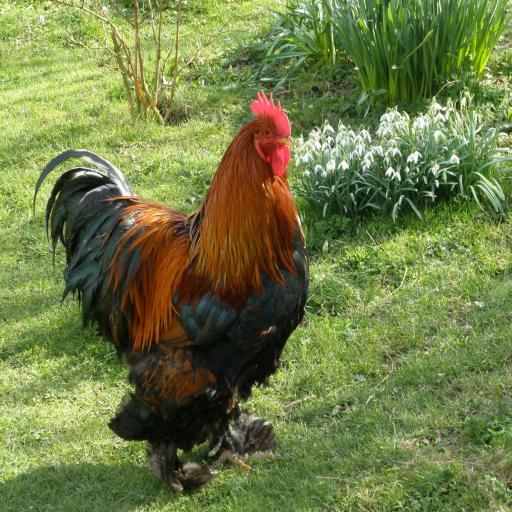healthy: (248, 70, 299, 189)
